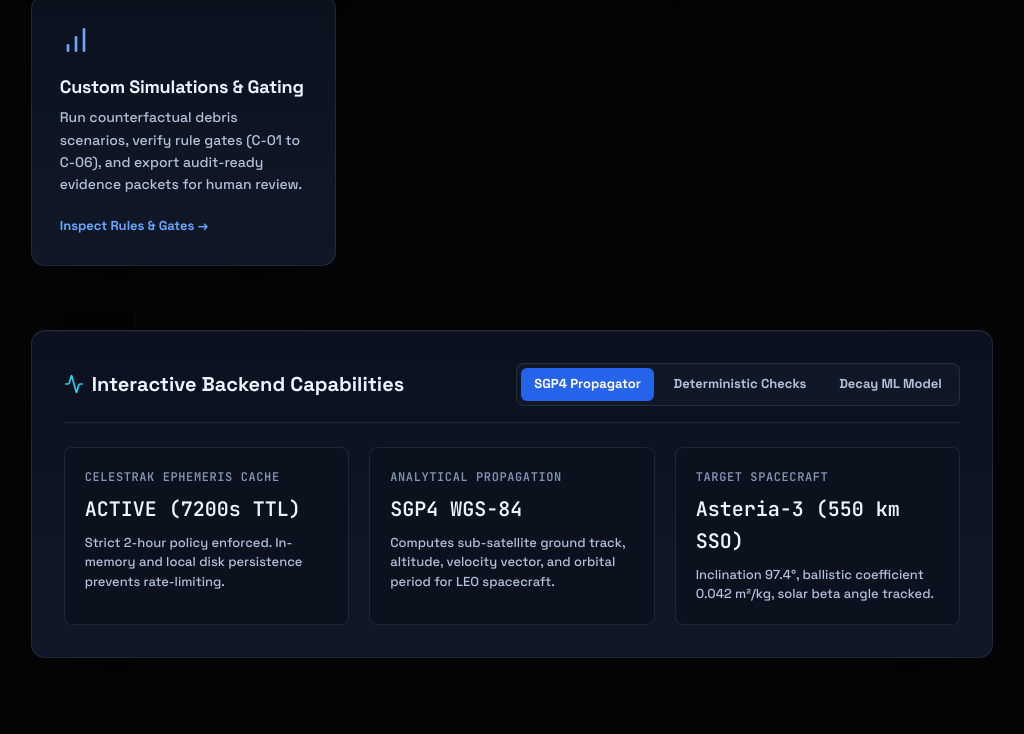
it: SolutionPage Component (OrbitScore Aerospace Solution) › allows switching between interactive backend capability tabs
The width and height of the screenshot is (1024, 734).
(page scrolled)
Expected: the text "CelesTrak Ephemeris Cache" is shown, [85, 469, 280, 485]
Click Deterministic Checks tab
Click the button "Deterministic Checks" at coordinates (740, 384), box [660, 368, 820, 401]
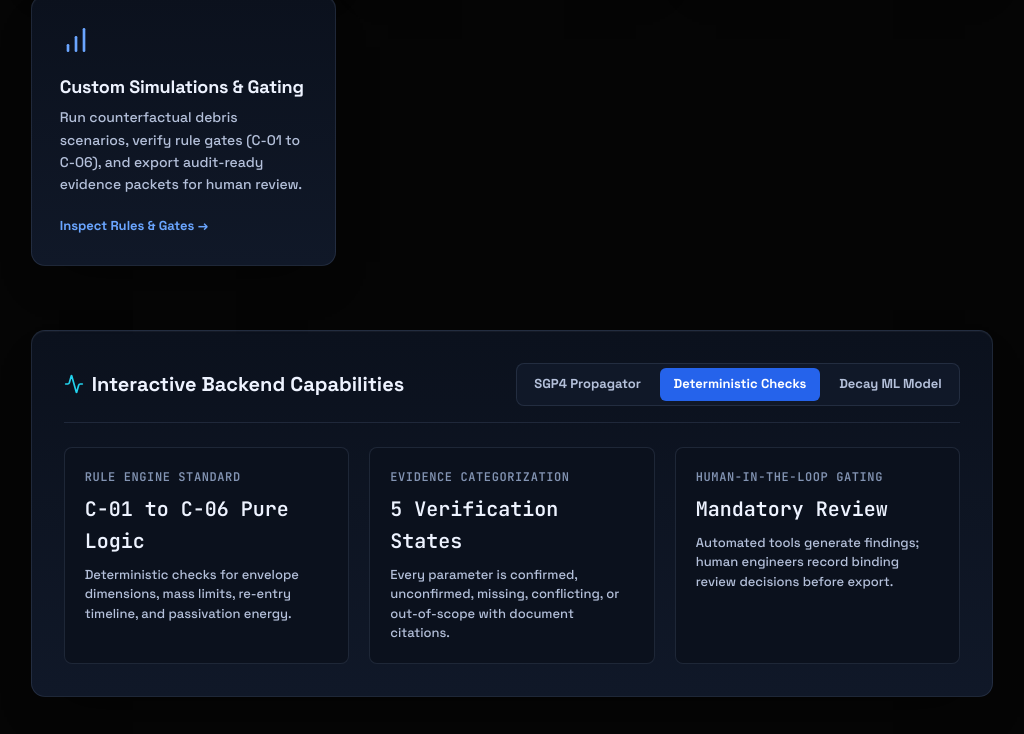
Expected: the text "C-01 to C-06 Pure Logic" is shown, [85, 496, 289, 554]
Click Decay ML Model tab
Click the button "Decay ML Model" at coordinates (890, 384), box [826, 368, 955, 401]
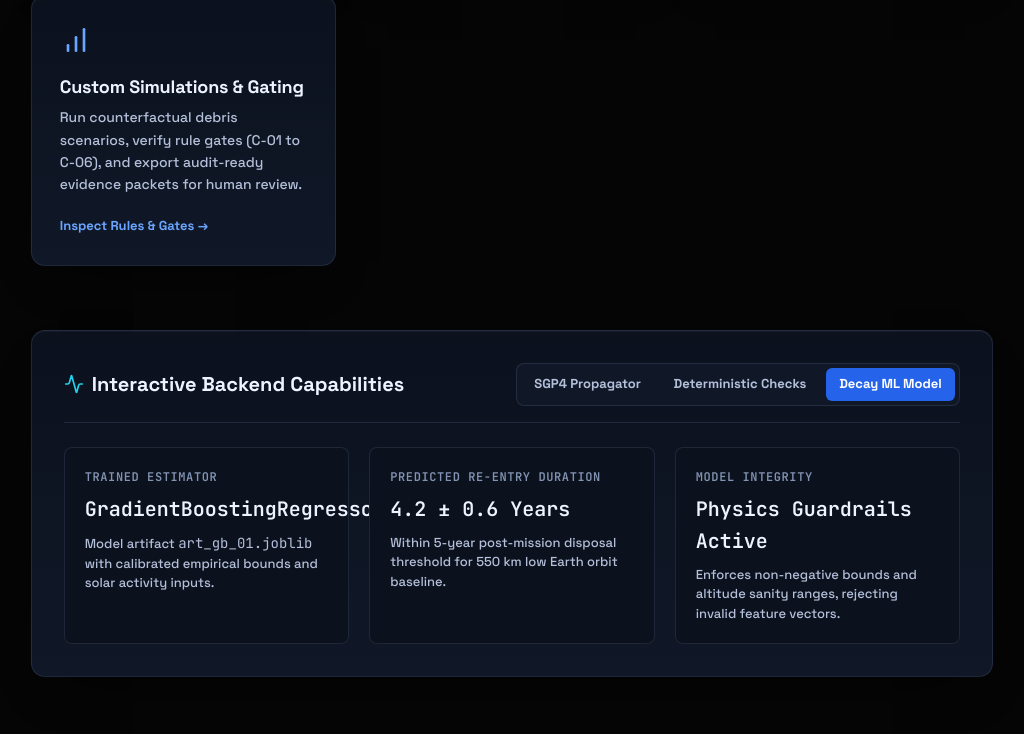
Expected: the text "GradientBoostingRegressor" is shown, [85, 493, 328, 525]
